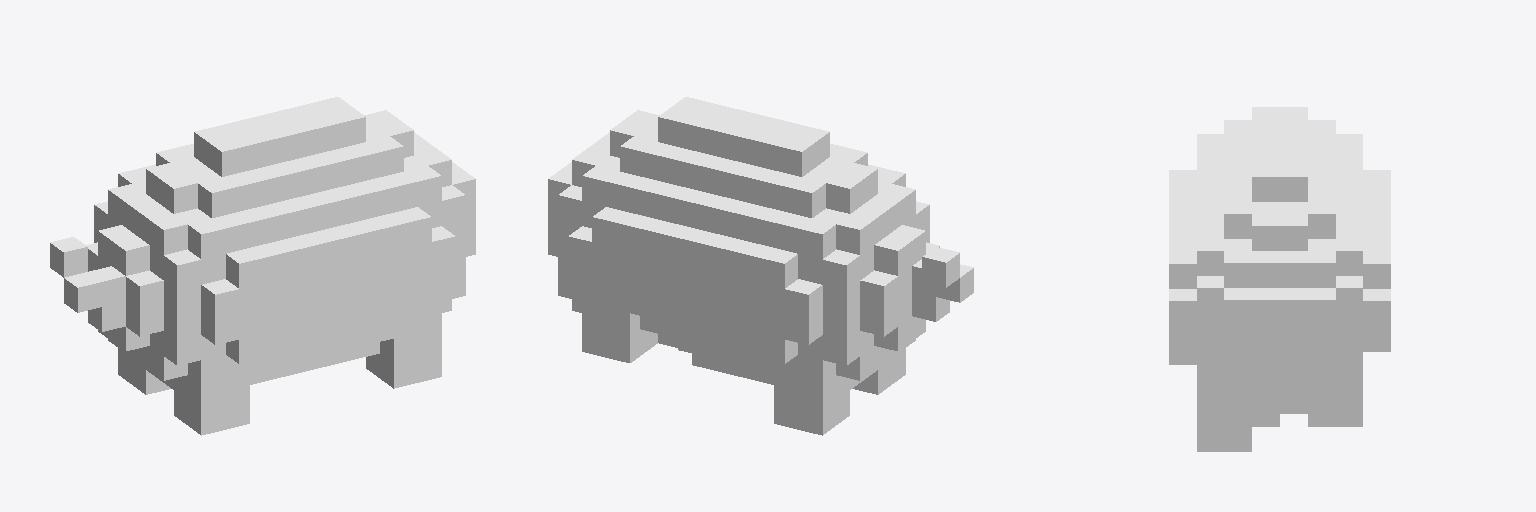
File: PigWalkAnim-2b.obj
3 renders of one model, left to right at view 1: azimuth 30°, elevation 25°; view 2: azimuth 150°, elevation 25°; view 3: azimuth 270°, elevation 25°, orthographic.
Bounding box in the file's own units: 16 × 10 × 8.